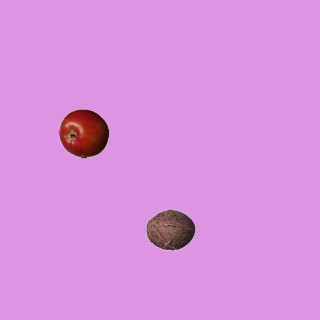Apple Braeburn: (58, 108, 108, 158)
Cocos: (145, 204, 195, 254)
